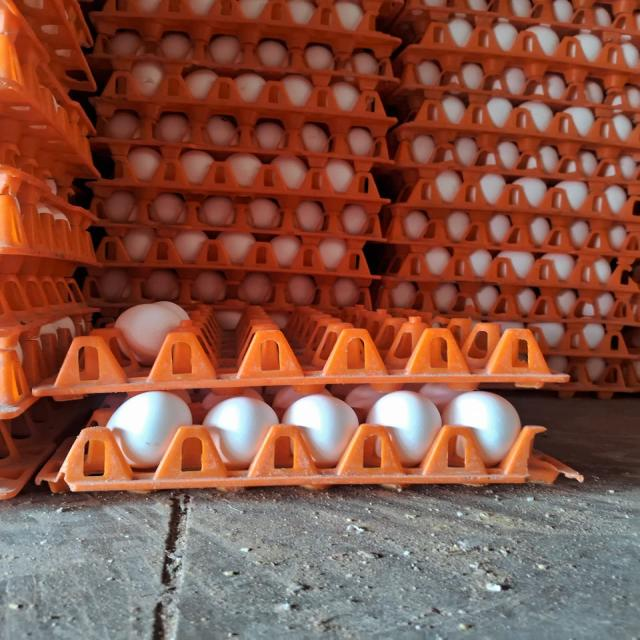egg_tray: (36, 388, 581, 492), (33, 302, 567, 398), (97, 70, 395, 197), (385, 138, 637, 265), (392, 171, 637, 298), (387, 135, 637, 258), (101, 20, 398, 123), (387, 170, 637, 292), (377, 282, 639, 397), (389, 136, 637, 256), (377, 282, 639, 392), (386, 165, 637, 278), (386, 209, 638, 316), (376, 282, 639, 379), (96, 191, 381, 278), (391, 15, 636, 116), (389, 170, 638, 256), (391, 95, 636, 182), (93, 69, 395, 138), (90, 26, 397, 93), (377, 280, 639, 358), (379, 282, 639, 360), (378, 281, 639, 358), (54, 301, 277, 391), (378, 278, 639, 352), (383, 250, 636, 326), (91, 110, 391, 172), (94, 148, 389, 210), (90, 0, 399, 58), (399, 16, 639, 87), (91, 190, 382, 248), (97, 228, 379, 286), (0, 6, 95, 176), (388, 59, 639, 122), (390, 131, 639, 193), (394, 96, 639, 158), (285, 305, 517, 370), (285, 306, 503, 371), (384, 205, 639, 260), (0, 274, 97, 418), (83, 268, 371, 316), (376, 278, 639, 330), (173, 272, 379, 338), (215, 305, 432, 366), (385, 245, 639, 297), (173, 272, 373, 338), (376, 278, 639, 328), (85, 264, 379, 308), (388, 247, 639, 296), (431, 316, 639, 372), (498, 318, 639, 398), (390, 0, 639, 44), (0, 164, 97, 276), (0, 308, 95, 418), (287, 305, 461, 365), (499, 318, 639, 392), (0, 76, 97, 181), (91, 300, 221, 375), (500, 321, 639, 390), (210, 274, 373, 331), (0, 400, 91, 500), (526, 322, 639, 398), (103, 300, 223, 368), (212, 306, 343, 367), (525, 322, 639, 392), (0, 195, 97, 276), (13, 0, 95, 91), (290, 304, 435, 355), (529, 323, 639, 390), (509, 321, 639, 372), (0, 309, 93, 372), (0, 399, 95, 452), (0, 274, 87, 330), (12, 0, 92, 57), (91, 271, 170, 328), (0, 418, 54, 500), (545, 355, 639, 398), (545, 356, 639, 398), (547, 356, 639, 398), (0, 0, 49, 74), (0, 163, 77, 208), (141, 300, 224, 336), (113, 14, 179, 49), (92, 295, 157, 328), (556, 24, 601, 60), (535, 254, 609, 274), (490, 18, 523, 50), (85, 270, 127, 295), (618, 20, 639, 70), (525, 22, 558, 50), (275, 331, 299, 369), (377, 0, 404, 32), (585, 0, 636, 16), (93, 307, 129, 328), (583, 0, 635, 14), (488, 222, 509, 244), (453, 138, 477, 156), (565, 152, 595, 166), (535, 146, 557, 164), (455, 318, 475, 337), (184, 20, 197, 48), (415, 136, 434, 154), (561, 295, 576, 316), (618, 156, 636, 173), (587, 330, 604, 348), (171, 348, 190, 364), (451, 25, 469, 40), (262, 178, 281, 192), (245, 308, 264, 322), (575, 298, 597, 310), (626, 86, 639, 106), (85, 276, 98, 295), (575, 298, 597, 309), (233, 306, 245, 326), (445, 230, 463, 243), (449, 315, 470, 326), (336, 2, 360, 11), (268, 2, 289, 12), (498, 142, 515, 154), (477, 286, 494, 298), (461, 308, 479, 319), (534, 3, 551, 13), (119, 18, 135, 28), (95, 12, 103, 32), (517, 259, 527, 275), (454, 330, 467, 342), (131, 278, 142, 292), (99, 270, 113, 281), (57, 367, 67, 382), (513, 234, 528, 244), (599, 304, 611, 316), (45, 72, 57, 84), (267, 354, 277, 368), (601, 162, 615, 172), (412, 311, 431, 318), (78, 357, 88, 370), (481, 384, 503, 389), (548, 337, 559, 347), (413, 312, 431, 318), (580, 308, 593, 316), (81, 209, 92, 218), (489, 314, 503, 321), (558, 258, 570, 266), (627, 301, 637, 310), (567, 182, 582, 188), (481, 384, 503, 388), (475, 254, 485, 262), (517, 262, 525, 272), (531, 238, 541, 246), (372, 130, 385, 136), (89, 268, 101, 274), (590, 370, 599, 378), (510, 252, 519, 260), (572, 342, 583, 348), (558, 272, 566, 280), (555, 76, 563, 84), (476, 254, 485, 261), (495, 3, 504, 10), (199, 380, 209, 386), (501, 315, 511, 321), (427, 254, 437, 260), (67, 214, 74, 222), (622, 78, 631, 84), (184, 236, 190, 245), (552, 366, 565, 370), (322, 6, 332, 11), (452, 361, 459, 368), (70, 343, 77, 350), (399, 340, 405, 348), (524, 0, 530, 8), (451, 352, 457, 360), (629, 240, 633, 252), (397, 180, 403, 188), (383, 334, 387, 346), (555, 386, 564, 391), (407, 22, 416, 27), (422, 6, 431, 11), (436, 292, 447, 296), (78, 374, 85, 380), (269, 312, 274, 320), (536, 29, 544, 34), (100, 360, 105, 368), (554, 385, 564, 389), (521, 309, 529, 314), (267, 312, 273, 318), (597, 8, 606, 12), (504, 326, 522, 328), (629, 381, 636, 386), (451, 238, 462, 241), (91, 372, 99, 376), (611, 186, 619, 190), (283, 388, 291, 392), (400, 310, 408, 314), (240, 366, 246, 371), (614, 310, 619, 316), (621, 276, 626, 282), (99, 140, 105, 145), (555, 385, 561, 390), (204, 396, 209, 402), (0, 458, 4, 465), (391, 310, 398, 314), (112, 26, 117, 31), (84, 389, 92, 392), (401, 310, 409, 313), (487, 386, 499, 388), (489, 318, 495, 322), (99, 54, 105, 58), (478, 263, 481, 270), (249, 365, 253, 370), (87, 276, 91, 281), (559, 273, 563, 278), (467, 270, 477, 272), (374, 122, 379, 126), (562, 282, 567, 286), (469, 362, 472, 368), (567, 274, 570, 280), (535, 316, 539, 320), (599, 300, 601, 308), (63, 362, 67, 366), (557, 386, 561, 390), (243, 74, 247, 78), (172, 289, 177, 292), (472, 321, 475, 326), (356, 241, 361, 244), (374, 117, 379, 120), (198, 109, 201, 114), (514, 69, 519, 72), (517, 269, 521, 272), (478, 256, 482, 259), (601, 294, 607, 296), (517, 323, 521, 326), (391, 310, 397, 312), (579, 9, 583, 12), (541, 35, 544, 39), (625, 374, 628, 378), (459, 340, 461, 346), (593, 246, 599, 248), (219, 111, 223, 114), (218, 3, 222, 6), (586, 285, 590, 288), (476, 340, 478, 346), (523, 263, 525, 268), (403, 310, 408, 312), (428, 336, 433, 338), (349, 324, 354, 326), (287, 363, 290, 366), (249, 333, 252, 336), (598, 277, 601, 280), (507, 176, 510, 179), (455, 332, 458, 335), (123, 25, 126, 28), (90, 354, 93, 357), (250, 314, 253, 317), (136, 47, 139, 50), (603, 270, 605, 274), (487, 256, 489, 260), (528, 156, 532, 158), (605, 36, 607, 40), (505, 2, 507, 6), (545, 38, 547, 42), (454, 22, 458, 24), (513, 256, 517, 258), (330, 340, 332, 344), (515, 238, 519, 240), (183, 256, 187, 258), (555, 254, 559, 256), (551, 74, 555, 76), (160, 300, 167, 301), (476, 273, 482, 274), (624, 313, 627, 315), (565, 164, 568, 166), (494, 100, 497, 102), (536, 18, 539, 20), (541, 218, 544, 220), (369, 320, 372, 322), (413, 175, 415, 178), (563, 269, 565, 272), (504, 254, 507, 256), (449, 322, 451, 325), (618, 302, 621, 304), (590, 221, 592, 224), (179, 384, 181, 386), (441, 154, 443, 156), (435, 150, 437, 152), (513, 318, 515, 320), (425, 309, 429, 310), (607, 293, 609, 295), (444, 284, 446, 286), (569, 176, 573, 177), (456, 336, 458, 338), (605, 36, 607, 38), (261, 180, 263, 182), (429, 256, 433, 257), (270, 314, 272, 316), (248, 312, 250, 314), (443, 285, 447, 286), (342, 118, 344, 120), (169, 47, 173, 48), (265, 2, 267, 4), (530, 304, 532, 306), (474, 269, 477, 270), (160, 300, 163, 301), (636, 16, 637, 19), (591, 293, 594, 294), (405, 326, 406, 328), (430, 155, 431, 157), (609, 278, 610, 280), (137, 269, 139, 270), (443, 309, 445, 310), (218, 314, 219, 316), (116, 83, 117, 85), (429, 315, 430, 317), (560, 368, 562, 369), (93, 340, 95, 341), (635, 338, 636, 340), (540, 282, 541, 284), (527, 270, 528, 272), (556, 269, 557, 271), (472, 260, 473, 262), (573, 258, 575, 259), (554, 257, 555, 259), (496, 332, 497, 334), (552, 104, 553, 106), (112, 345, 113, 347), (476, 254, 477, 255), (609, 296, 610, 297), (216, 338, 217, 339), (453, 296, 454, 297), (534, 31, 535, 32), (363, 124, 364, 125), (231, 3, 232, 4), (611, 338, 612, 339), (405, 354, 405, 355), (76, 208, 77, 208), (603, 267, 603, 268), (0, 54, 1, 54), (633, 283, 634, 283), (474, 256, 475, 256), (76, 79, 77, 79), (609, 301, 610, 301), (283, 321, 283, 321), (247, 306, 248, 306), (131, 305, 136, 305), (491, 386, 494, 386), (509, 323, 512, 323), (639, 77, 639, 79), (587, 314, 588, 314), (486, 310, 487, 310), (588, 196, 590, 196), (251, 316, 252, 316), (143, 83, 143, 84), (475, 316, 477, 316), (618, 61, 619, 61), (485, 18, 485, 22), (481, 0, 481, 1), (463, 0, 463, 1), (497, 34, 497, 36), (475, 363, 476, 363), (243, 350, 243, 350), (558, 368, 560, 368), (89, 367, 90, 367), (99, 355, 99, 360), (90, 341, 91, 341), (192, 154, 194, 154), (91, 310, 92, 310), (59, 172, 60, 172), (601, 234, 601, 235), (49, 374, 51, 374), (620, 390, 621, 390), (529, 238, 534, 238), (509, 236, 510, 236), (498, 219, 501, 219), (388, 119, 391, 119), (531, 265, 532, 265), (514, 254, 515, 254), (494, 339, 495, 339), (609, 341, 610, 341), (533, 285, 534, 285), (551, 255, 553, 255), (365, 390, 365, 390)
